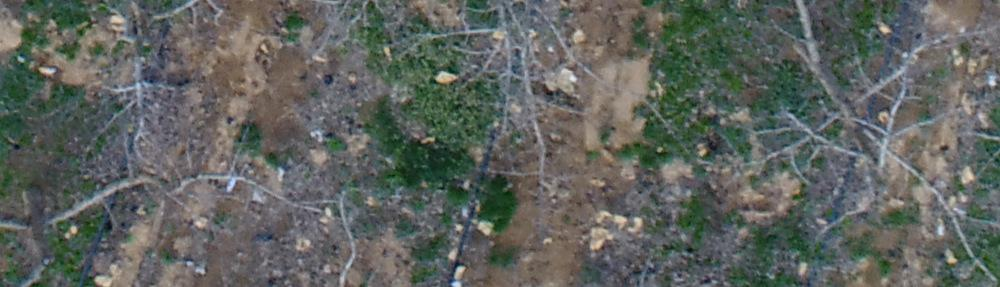apple: (299, 10, 653, 198), (10, 157, 323, 277)
